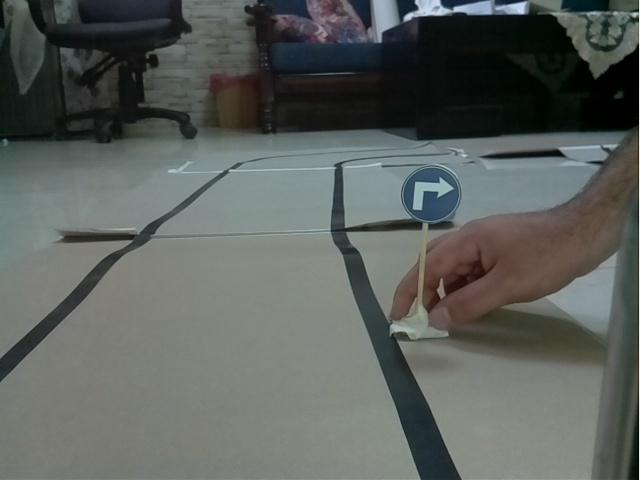turn: (397, 167, 466, 224)
